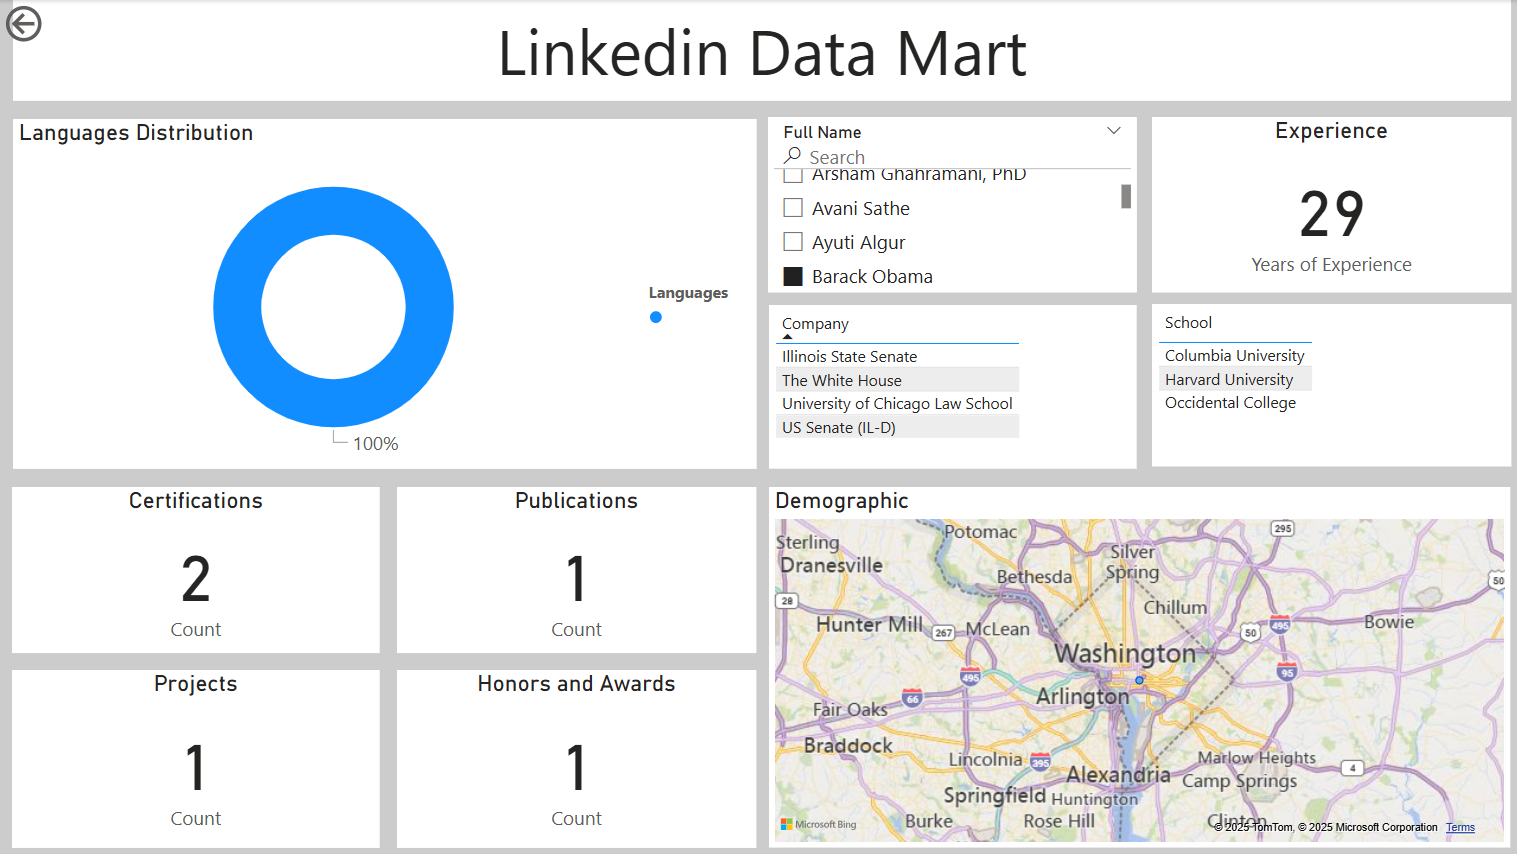

The page's visual inventory and layout, read from the dashboard file:
{"tool":"powerbi","page":{"name":"Page 1","canvas":[1280,720],"ordinal":0},"visuals":[{"type":"textbox","box":[10.6,0,1262.8,84.8],"z":0},{"type":"donutChart","title":"Languages Distribution","fields":{"Category":["group_04 languages.languages.1","group_04 languages.languages.2","group_04 languages.languages.3","group_04 languages.languages.4","group_04 languages.languages.5","group_04 languages.languages.6"],"Y":["CountNonNull(group_04 languages.public_identifier)"]},"box":[10.6,99.9,626.9,295.3],"z":1000},{"type":"map","title":"Demographic","fields":{"Category":["group_04 demographic.city"]},"box":[648.1,410.3,625.4,304.4],"z":2000},{"type":"card","title":"Certifications","fields":{"Values":["group_04 certifications.Count"]},"box":[10.2,410.5,310,139.7],"z":3000},{"type":"card","title":"Honors and Awards","fields":{"Values":["group_04 accomplishment_honors_awards.CountofAwards"]},"box":[334.8,564.8,302.8,149.9],"z":4000},{"type":"slicer","fields":{"Values":["group_04 demographic.full_name"]},"box":[648.1,98.4,310.4,148.4],"z":5000},{"type":"actionButton","box":[0,0,100,40],"z":6000},{"type":"card","title":"Projects","fields":{"Values":["group_04 accomplishment_projects.CountofProj"]},"box":[10.2,564.8,310,149.9],"z":7000},{"type":"card","title":"Publications","fields":{"Values":["group_04 accomplishment_publications.CountofPub"]},"box":[334.8,410.5,302.8,139.7],"z":8000},{"type":"card","title":"Experience","fields":{"Values":["group_04 experience.YrsofExp"]},"box":[970.9,99,302.8,148.5],"z":9000},{"type":"tableEx","fields":{"Values":["group_04 experience.company"]},"box":[648.1,257.4,310.4,137.8],"z":10000},{"type":"tableEx","fields":{"Values":["group_04 education.school"]},"box":[970.9,256.2,302.8,136.8],"z":11000}]}

Visuals, with their boxes in screenshot pixels (x1, y1, x2, y2), scaled from the page's 1280x720 canvas onto the 1517x854 screenshot:
textbox: <box>13,0,1509,101</box>
"Languages Distribution" donutChart: <box>13,118,756,469</box>
"Demographic" map: <box>768,487,1509,848</box>
"Certifications" card: <box>12,487,379,653</box>
"Honors and Awards" card: <box>397,670,756,848</box>
slicer - group_04 demographic.full_name: <box>768,117,1136,293</box>
actionButton: <box>0,0,119,47</box>
"Projects" card: <box>12,670,379,848</box>
"Publications" card: <box>397,487,756,653</box>
"Experience" card: <box>1151,117,1510,294</box>
tableEx - group_04 experience.company: <box>768,305,1136,469</box>
tableEx - group_04 education.school: <box>1151,304,1510,466</box>
